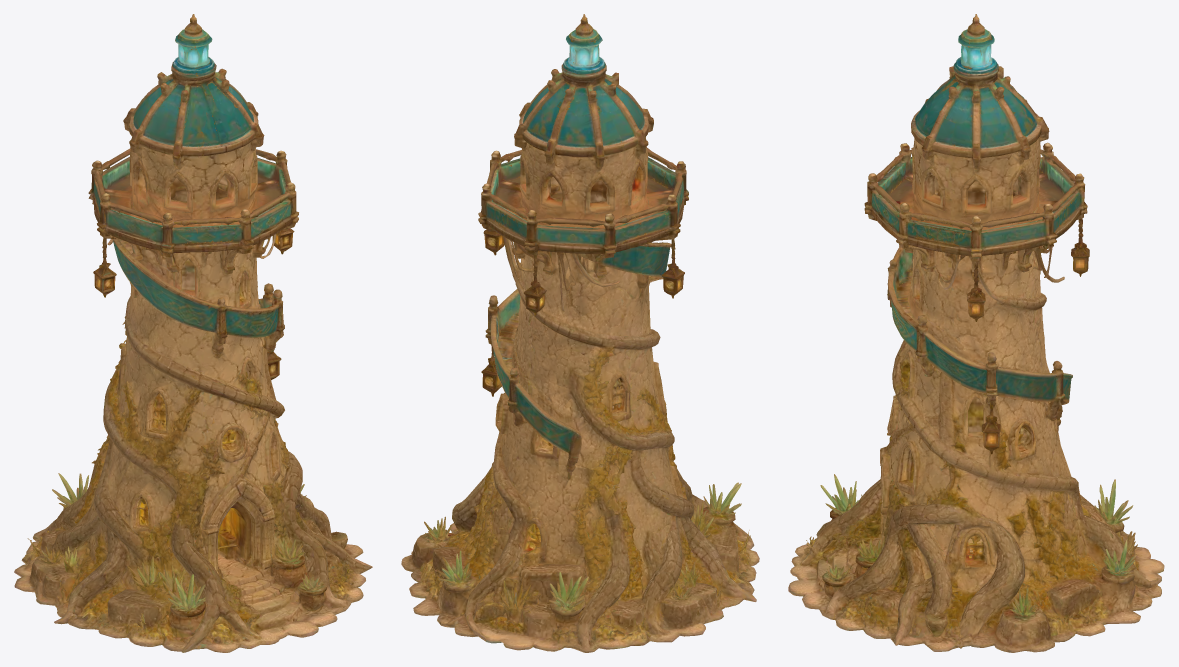
The model's file is beacon-watchtower.glb.
The picture shows the model from 3 angles, left to right: view 1: azimuth 30°, elevation 25°; view 2: azimuth 150°, elevation 25°; view 3: azimuth 270°, elevation 25°; orthographic projection.
Size of the model in its own units: 1.09 by 1.9 by 1.15.
1 material, 1 textured.
